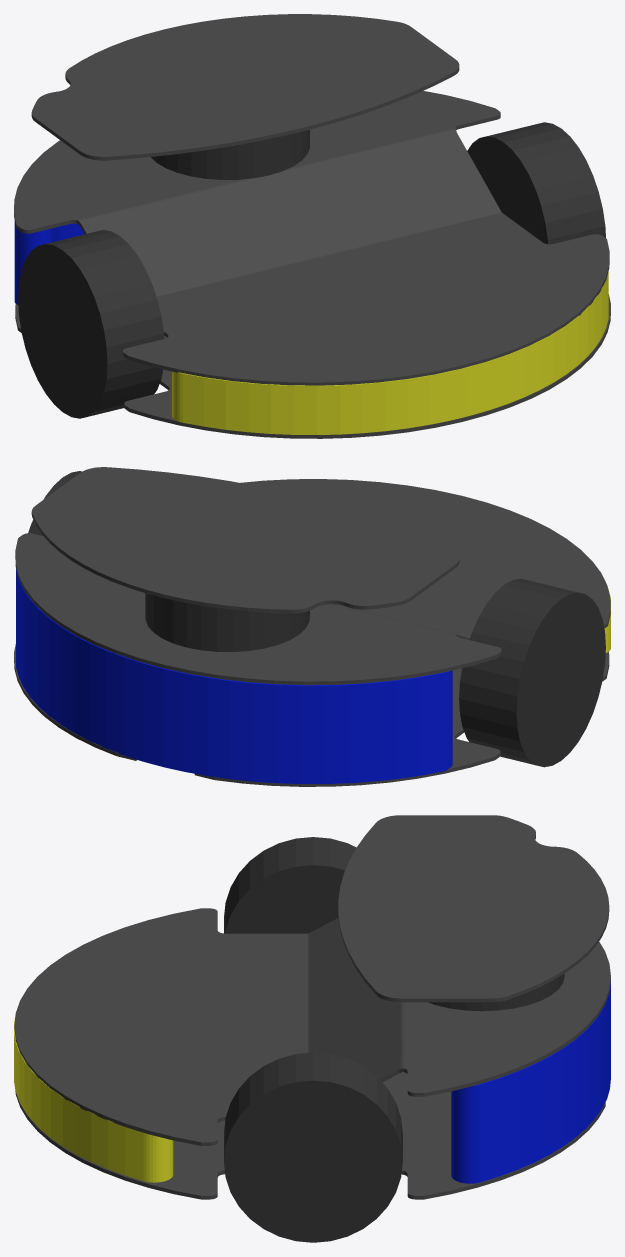
File: smart.dae
3 views of the same model, one above another, from view 1: azimuth 30°, elevation 25°; view 2: azimuth 150°, elevation 25°; view 3: azimuth 270°, elevation 25° (orthographic).
Visible parts, largest first — view 1: SMART-底盘上板-钣金, SMART-顶板-钣金, SMART-前封板, 柱体.001, 柱体, 柱体.002, SMART-底盘托板-钣金, SMART-后封板; view 2: SMART-底盘上板-钣金, SMART-后封板, SMART-顶板-钣金, 柱体.001, 柱体.002, SMART-底盘托板-钣金; view 3: SMART-底盘上板-钣金, SMART-顶板-钣金, 柱体, SMART-后封板, SMART-底盘托板-钣金, 柱体.001, SMART-前封板, 柱体.002.
Boxes of the visible parts, x1,y1,x2,y2 form: SMART-底盘上板-钣金: (14,91,609,385); SMART-顶板-钣金: (31,14,459,160); SMART-前封板: (172,271,608,434); 柱体.001: (18,230,164,418); 柱体: (467,122,605,244); 柱体.002: (151,129,309,179); SMART-底盘托板-钣金: (15,294,610,438); SMART-后封板: (14,220,84,304); SMART-底盘上板-钣金: (15,479,610,685); SMART-后封板: (16,569,452,783); SMART-顶板-钣金: (31,467,459,613); 柱体.001: (459,578,605,767); 柱体.002: (145,593,309,651); SMART-底盘托板-钣金: (14,644,609,786); SMART-底盘上板-钣金: (14,908,610,1145); SMART-顶板-钣金: (338,815,609,1002); 柱体: (224,1052,402,1242); SMART-后封板: (451,981,610,1183); SMART-底盘托板-钣金: (15,1072,605,1199); 柱体.001: (224,837,356,933); SMART-前封板: (14,1017,173,1182); 柱体.002: (428,973,564,1011).
Size of the model in its own units: 0.2125 by 0.2201 by 0.0871.
